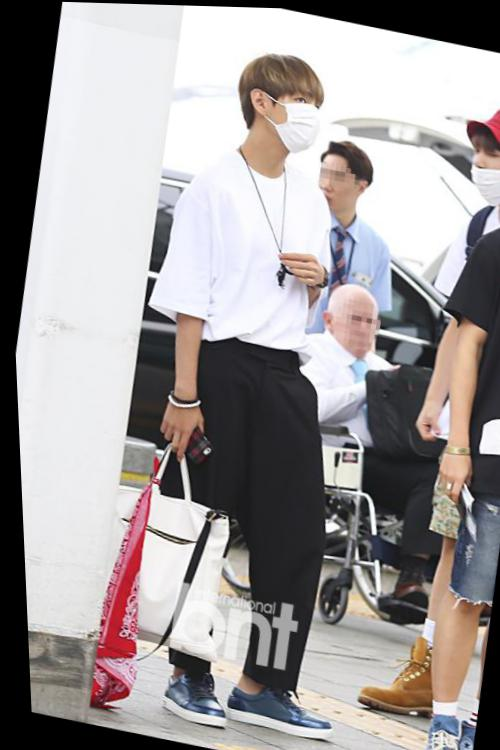OK: (252, 76, 331, 154)
WRONG: (459, 134, 500, 207)
